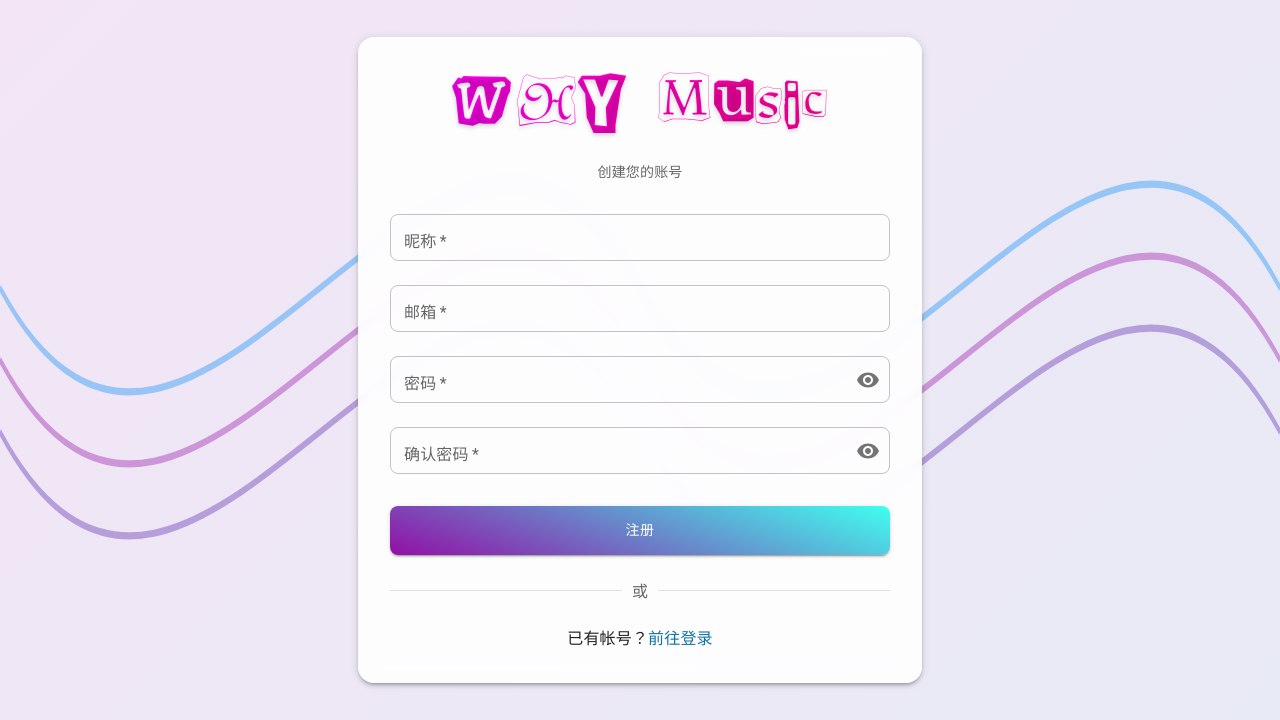
Scenario: 注册页面测试 › 密码不匹配验证
This screenshot has width=1280, height=720.
Step 1. Type "测试用户" into the field labelled "昵称 *" → (640, 238), box [390, 214, 890, 261]
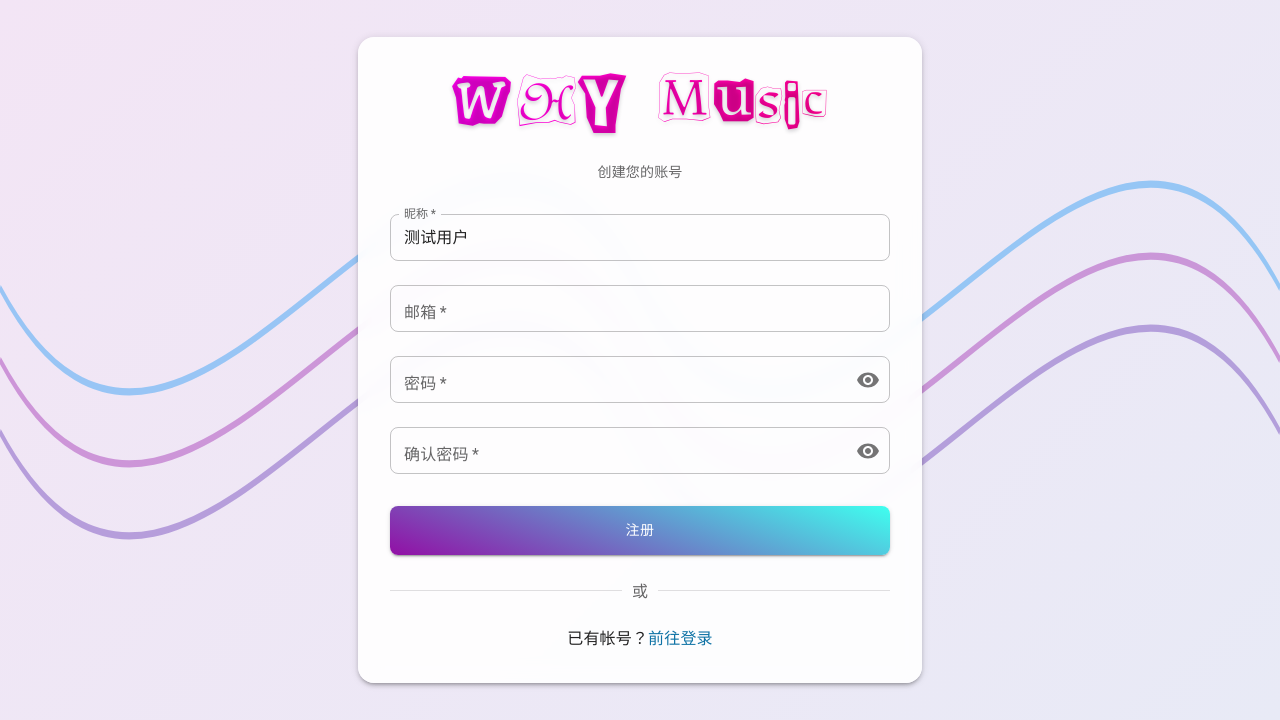
Step 2. Type "test@example.com" into the field labelled "邮箱 *" → (640, 309), box [390, 285, 890, 332]
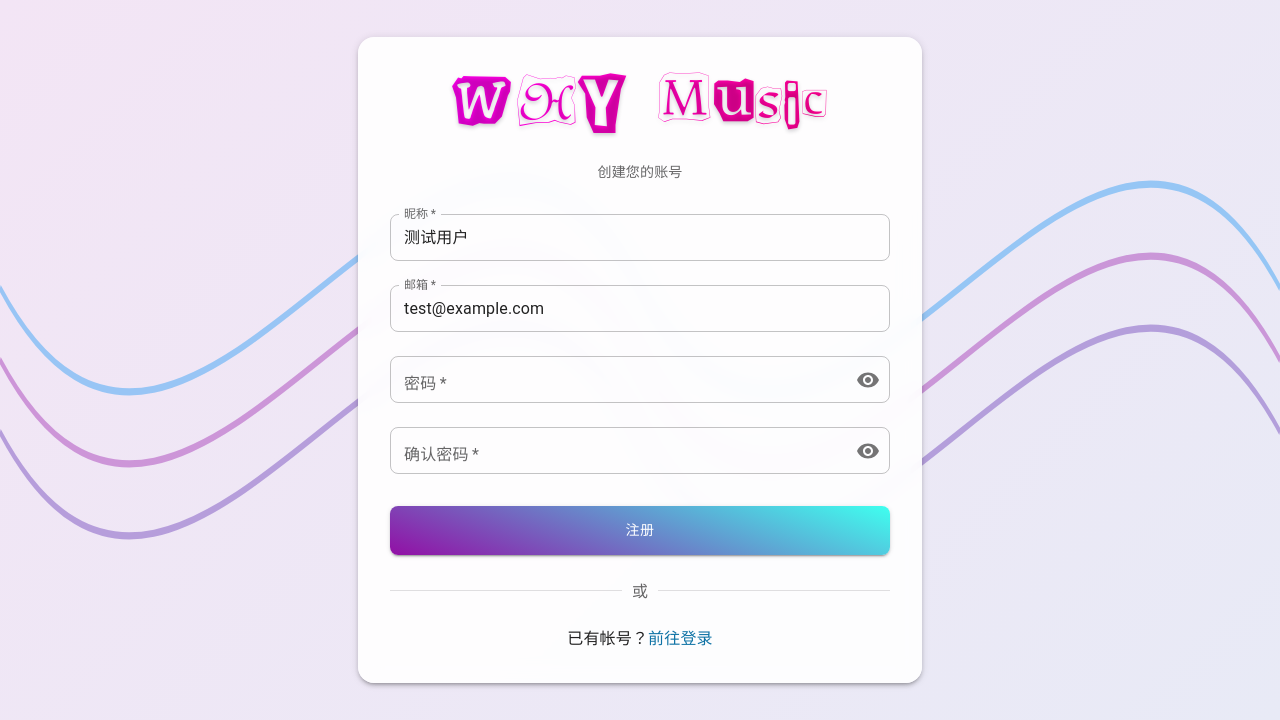
Step 3. Type "password123" into the password field labelled "密码 *" → (615, 380), box [390, 356, 840, 403]
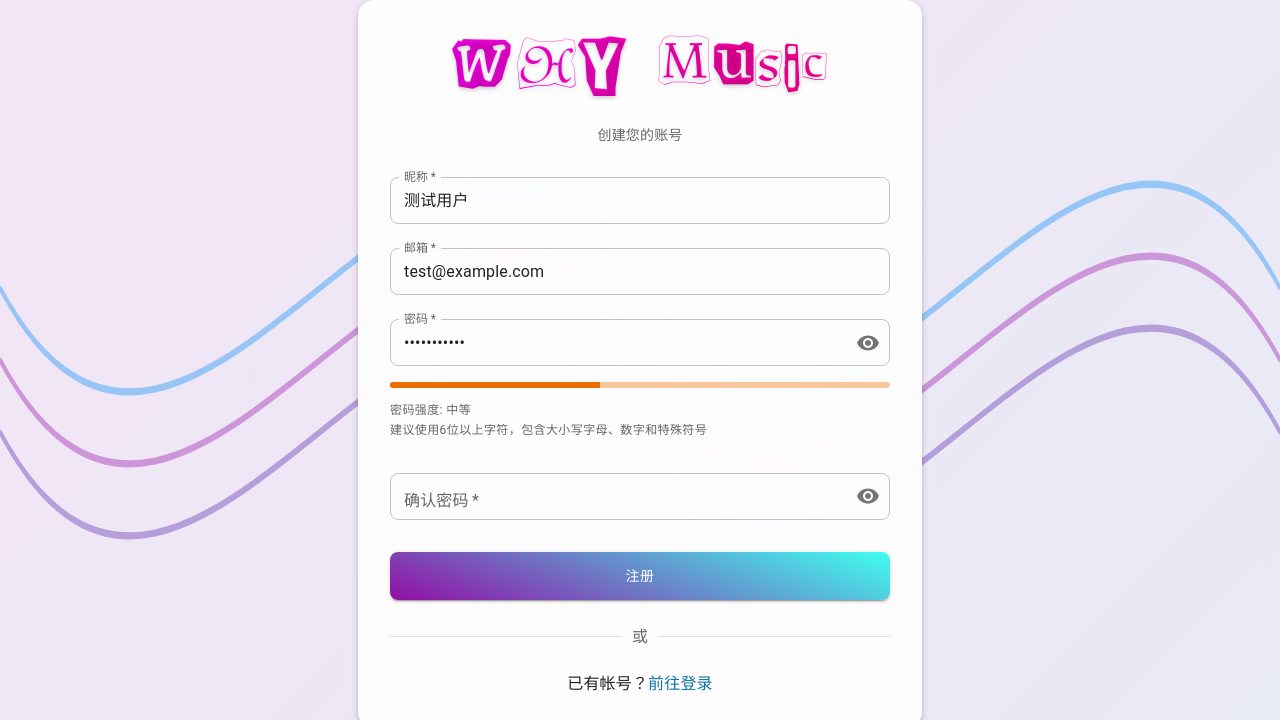
Step 4. Type "password456" into the password field labelled "确认密码 *" → (615, 496), box [390, 473, 840, 520]
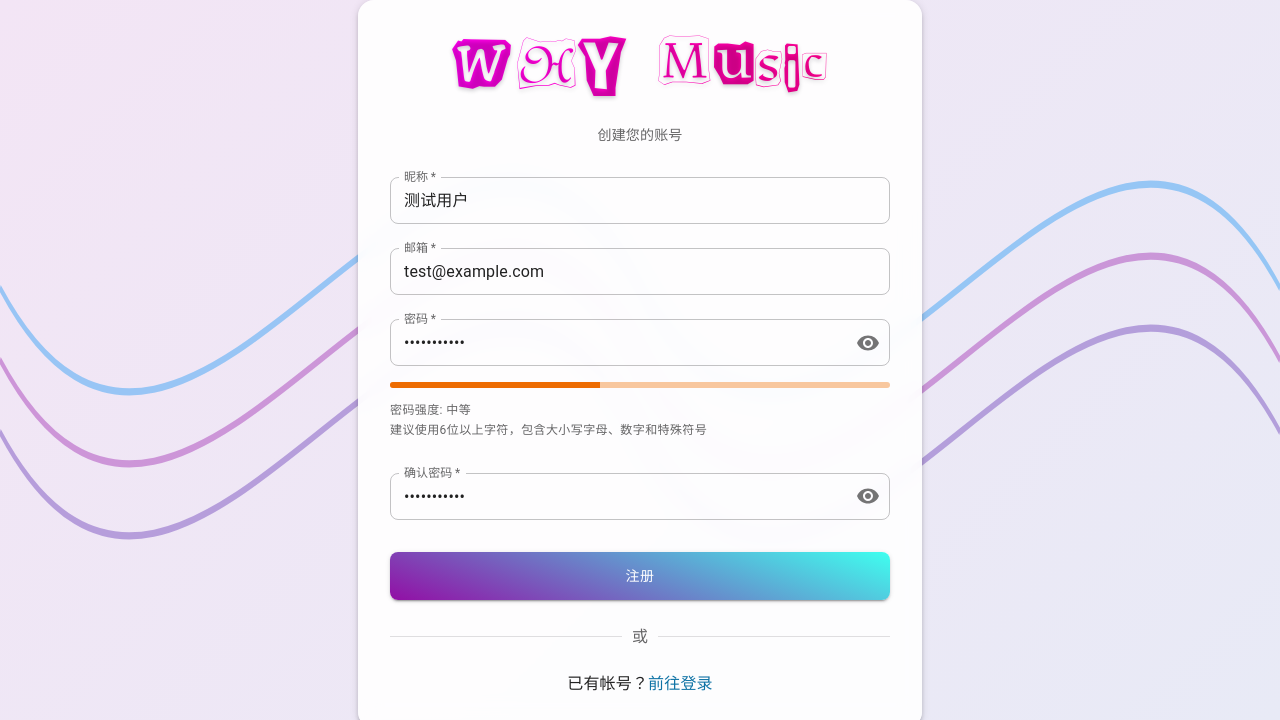
Step 5. Click the button "注册" → (640, 576), box [390, 552, 890, 600]
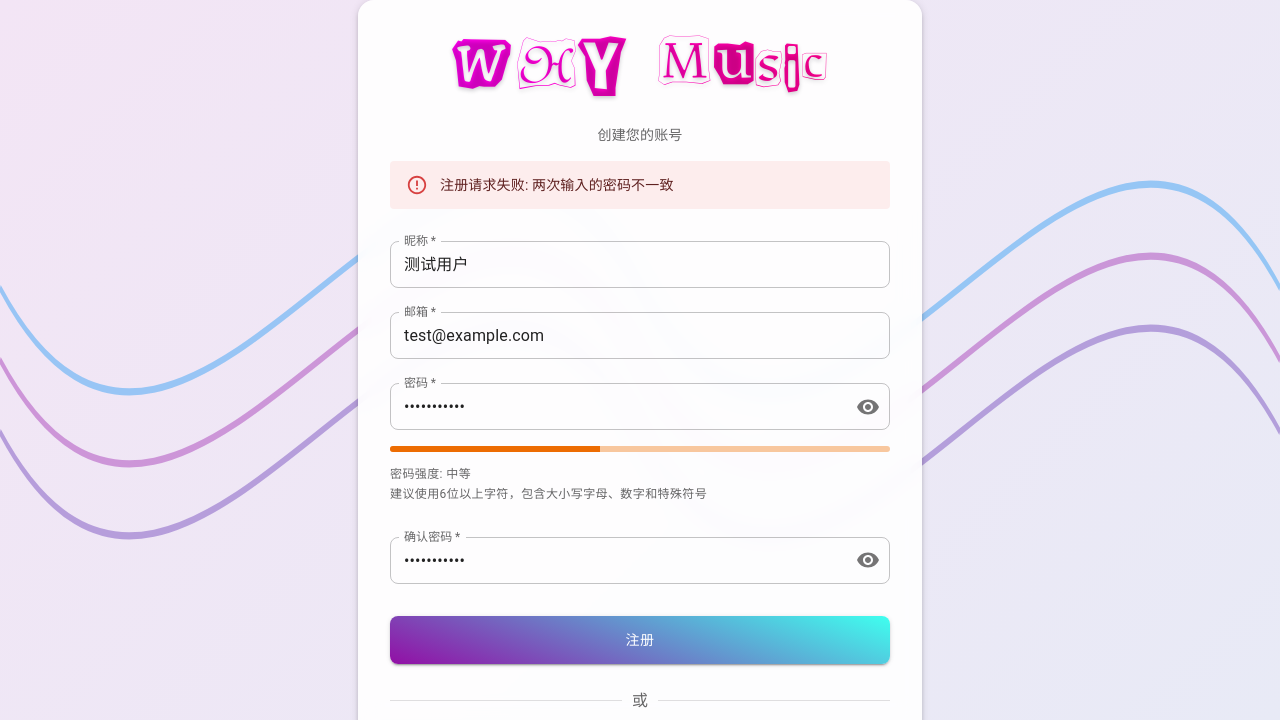
Check: the text "注册请求失败: 两次输入的密码不一致" is shown, box [440, 177, 674, 193]
